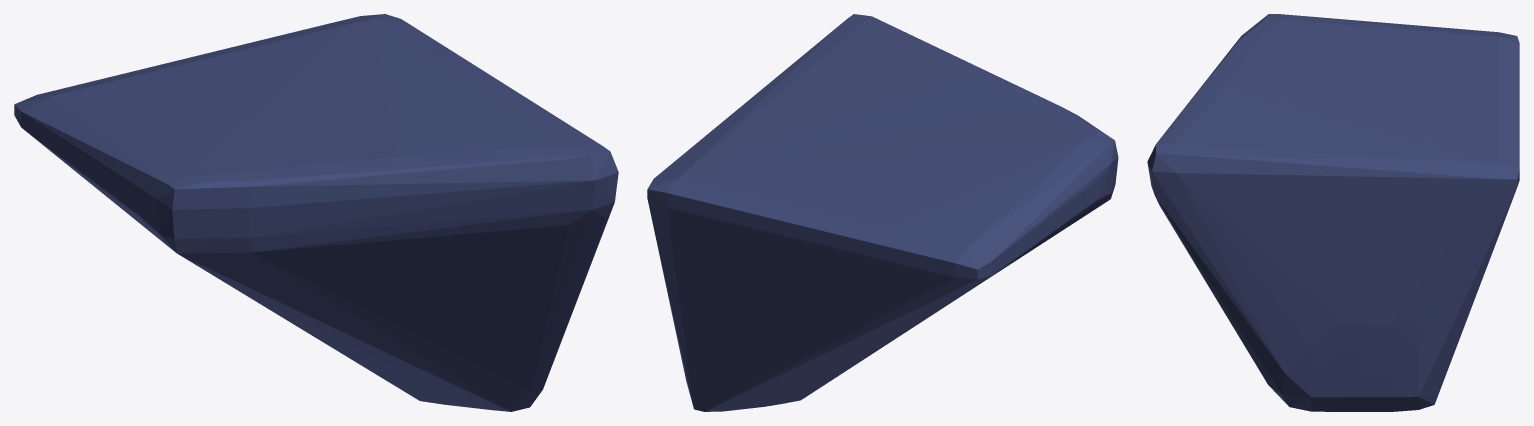
File: right-hip-yaw-0_part_16.obj
The picture shows the model from 3 angles, left to right: view 1: azimuth 30°, elevation 25°; view 2: azimuth 150°, elevation 25°; view 3: azimuth 270°, elevation 25°; orthographic projection. The views are drawn at different scales.
Size of the model in its own units: 0.0267 by 0.0216 by 0.0275.
